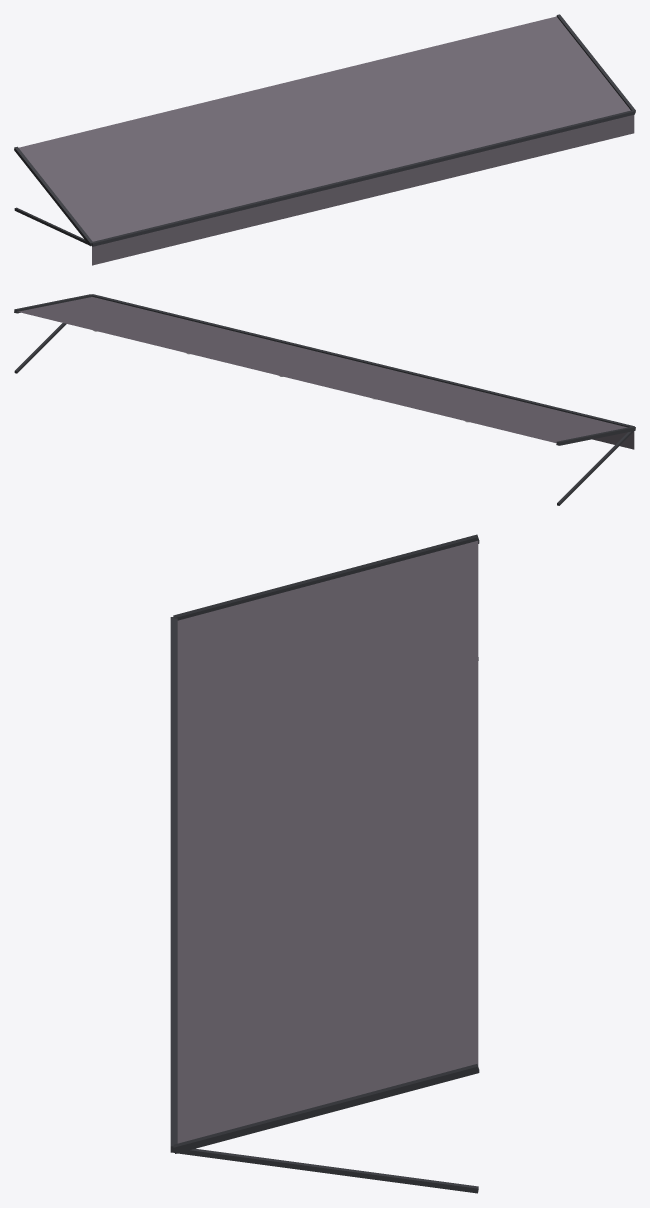
File: awning_3bay.glb
3 views of the same model, one above another, from view 1: azimuth 30°, elevation 25°; view 2: azimuth 150°, elevation 25°; view 3: azimuth 270°, elevation 25° (orthographic). The views are drawn at different scales.
Visible parts, largest first — view 1: awning_3bay; view 2: awning_3bay; view 3: awning_3bay.
Boxes of the visible parts, <box> form: awning_3bay: <box>14,14,635,265</box>; awning_3bay: <box>14,294,635,505</box>; awning_3bay: <box>170,534,479,1193</box>.
Bounding box in the file's own units: 7.04 × 0.784 × 1.73.
3 materials, 1 textured.
